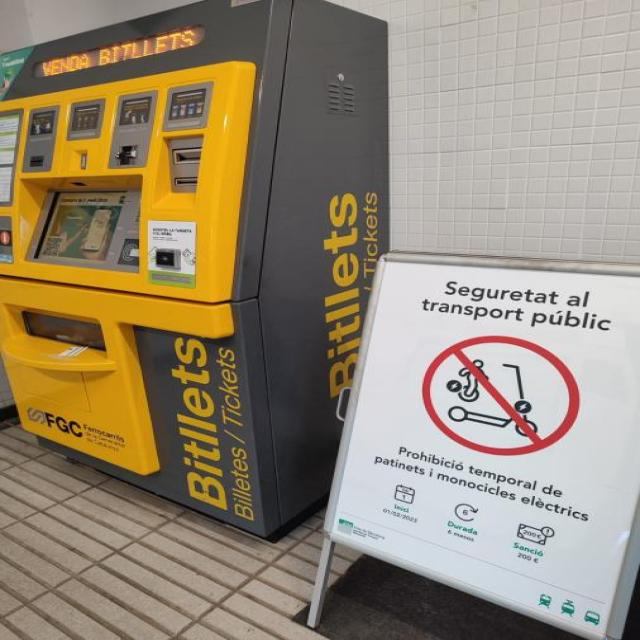maquina-tickets: (8, 3, 402, 541)
